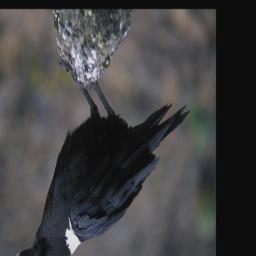Crow: (15, 56, 191, 256)
